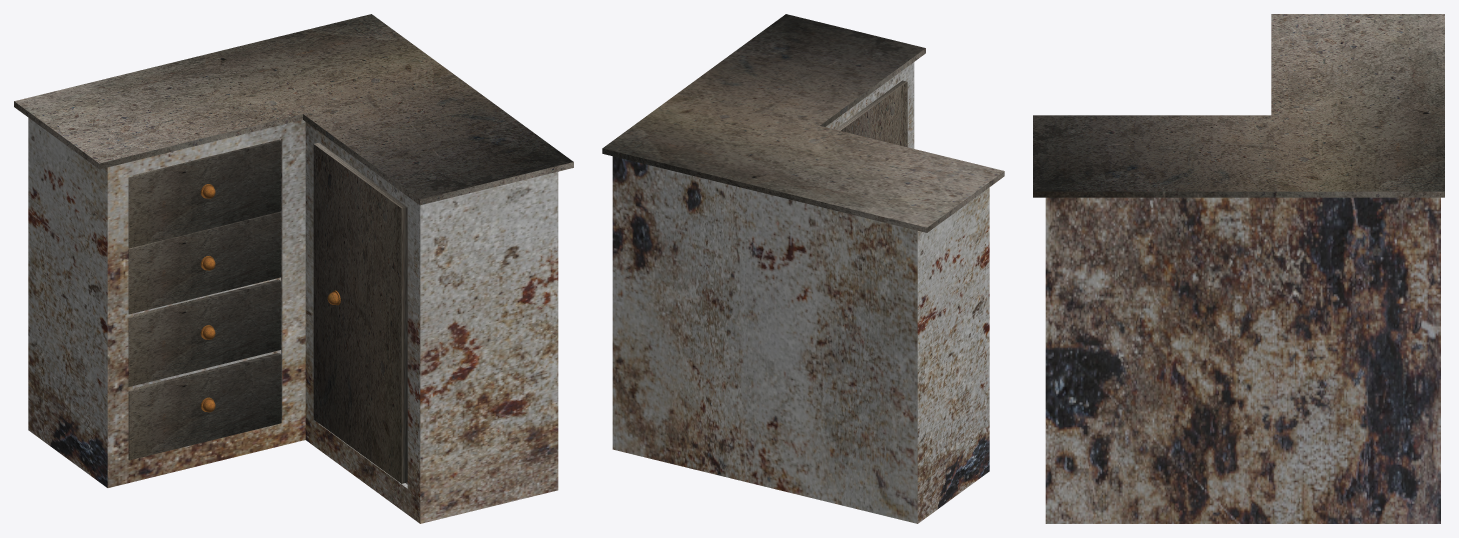
File: EscrivaninhaLV2.fbx
The picture shows the model from 3 angles, left to right: view 1: azimuth 30°, elevation 25°; view 2: azimuth 150°, elevation 25°; view 3: azimuth 270°, elevation 25°; orthographic projection. The views are drawn at different scales.
Visible parts, largest first — view 1: pCube1, pCube2, pCube7, pCube3, pCube6, pCube5, pCube4; view 2: pCube1, pCube2, pCube7; view 3: pCube1, pCube2.
Boxes of the visible parts, x1=… form: pCube1: x1=28, y1=118, x2=558, y2=523; pCube2: x1=14, y1=14, x2=573, y2=205; pCube7: x1=313, y1=142, x2=407, y2=483; pCube3: x1=128, y1=139, x2=281, y2=248; pCube6: x1=128, y1=353, x2=281, y2=460; pCube5: x1=128, y1=279, x2=281, y2=386; pCube4: x1=128, y1=211, x2=281, y2=314; pCube1: x1=612, y1=62, x2=989, y2=523; pCube2: x1=602, y1=14, x2=1004, y2=232; pCube7: x1=835, y1=80, x2=907, y2=147; pCube1: x1=1045, y1=197, x2=1440, y2=523; pCube2: x1=1033, y1=14, x2=1444, y2=197.
Bounding box in the file's own units: 3.49 × 3.09 × 3.42.
Materials: 3 (3 with a texture image).
